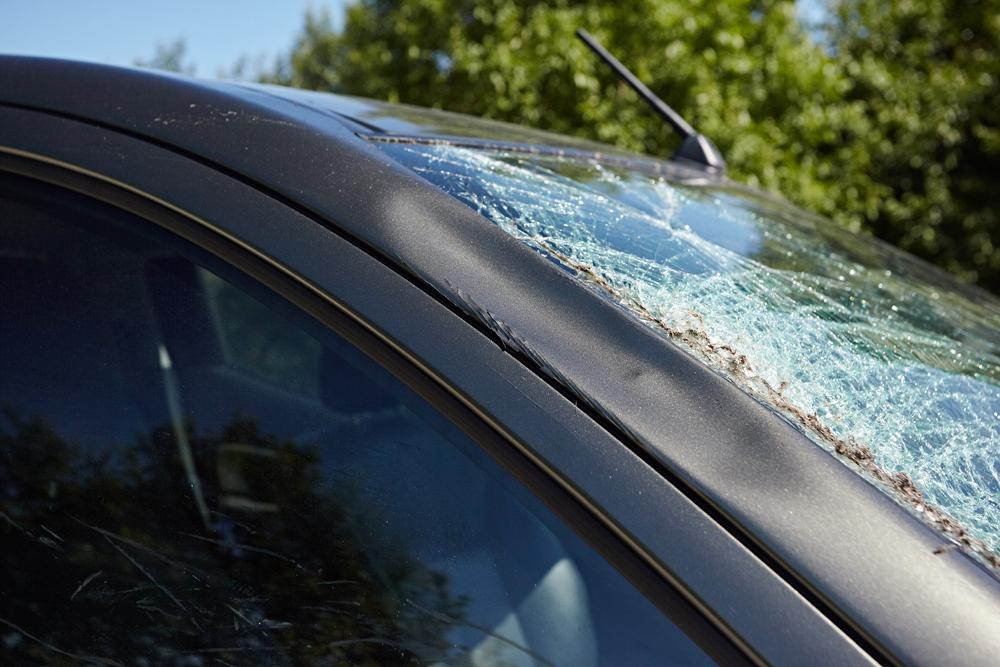dent: (391, 193, 803, 498)
glass shatter: (367, 142, 1000, 569)
